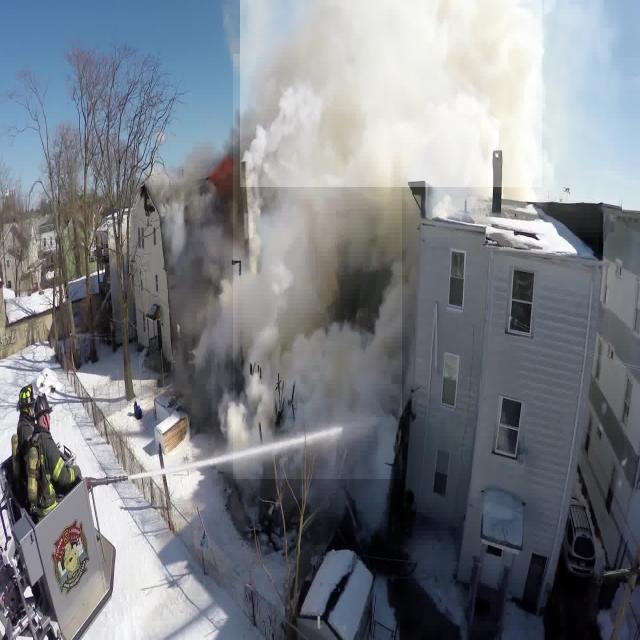Smoke: (233, 54, 402, 479), (240, 0, 542, 187)
